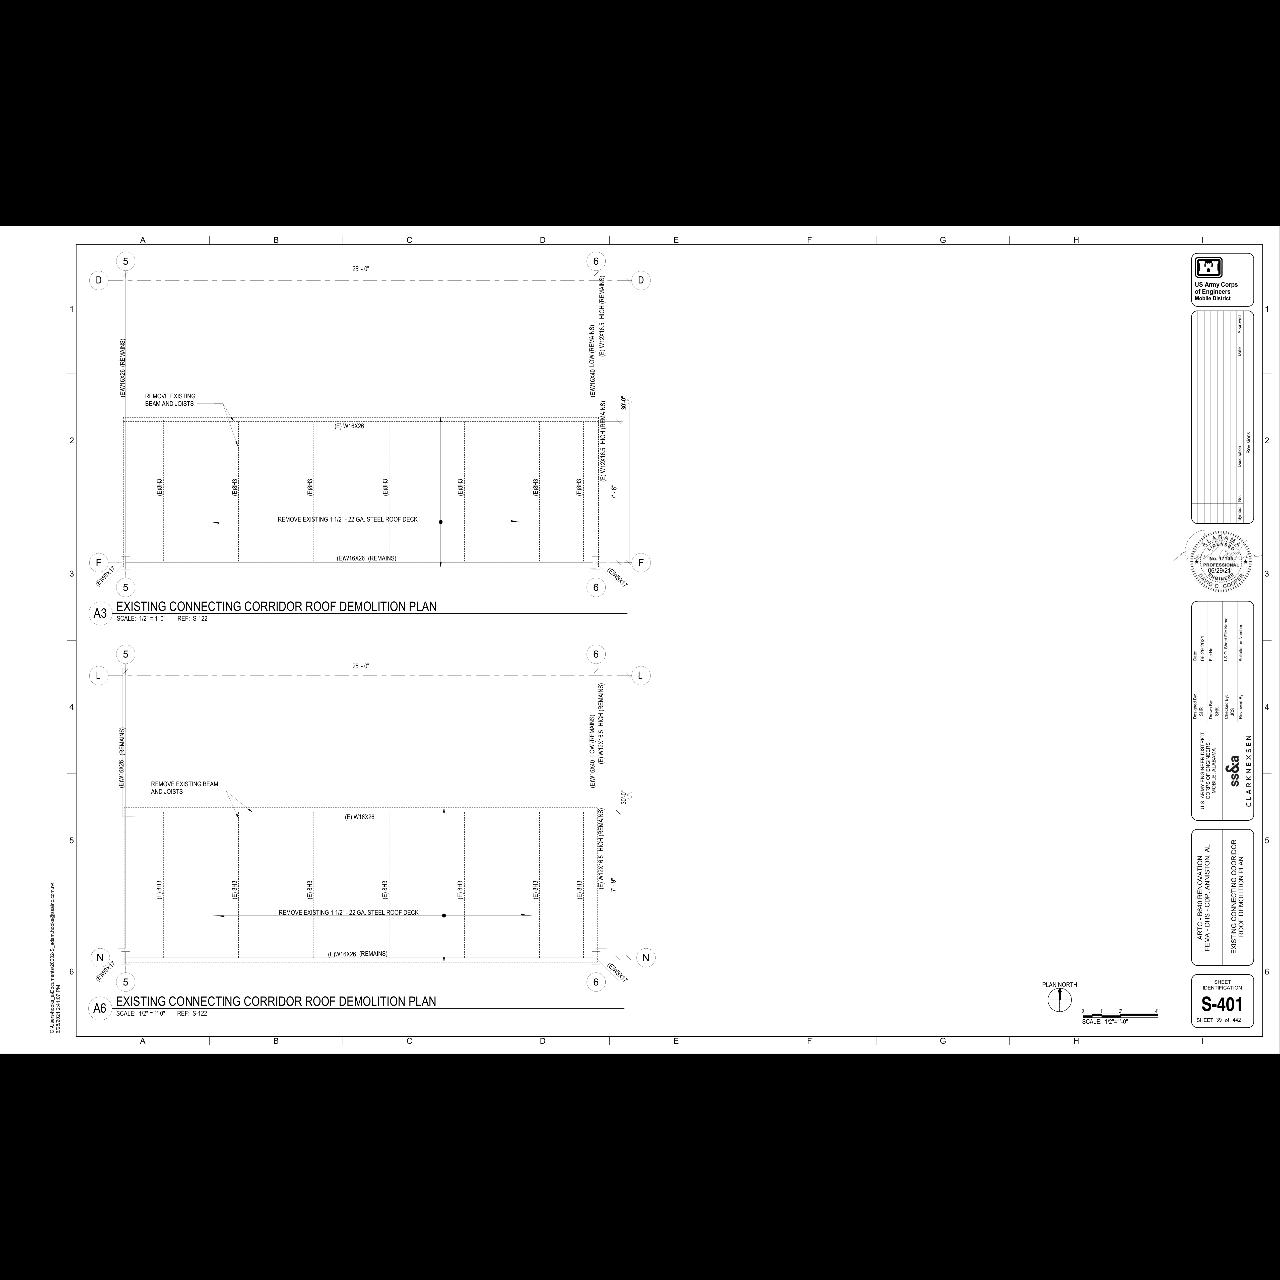title: (82, 594, 632, 629), (86, 993, 629, 1023)
